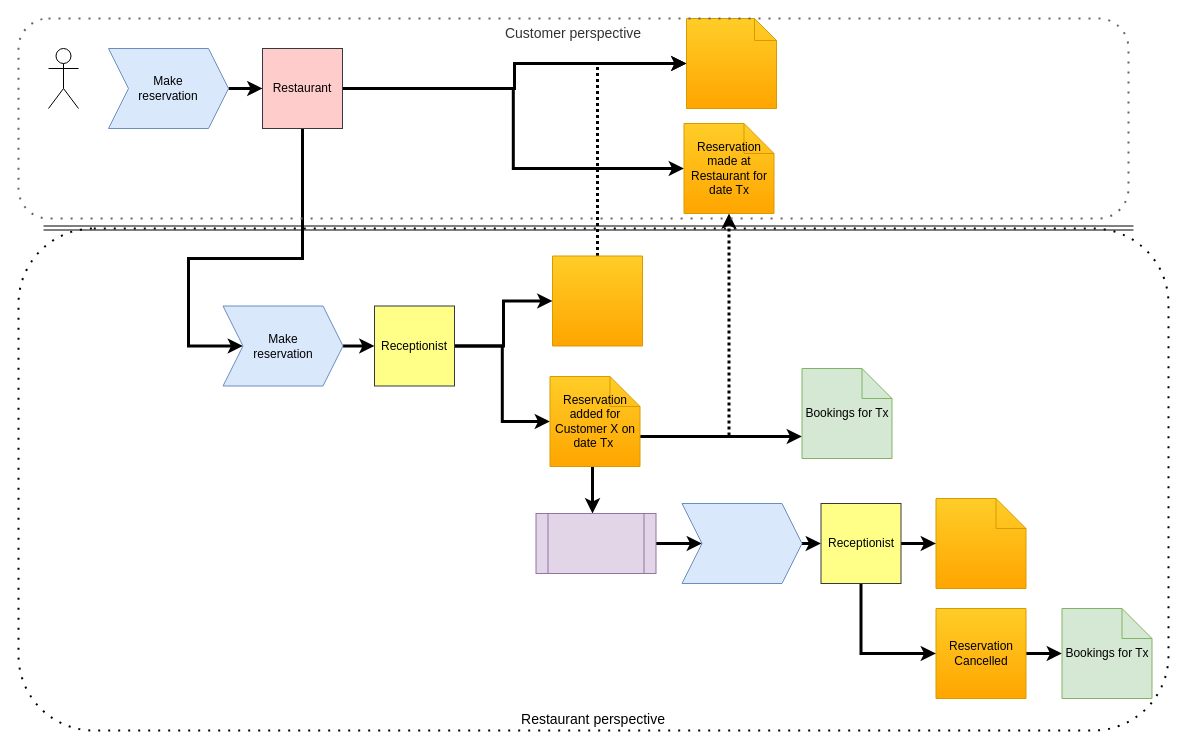
Some shapes in this 1186 by 748 pixel diagram are drawn without their labels. The centre of each missing label's shape, as x and y in pixels:
Confirm reservation: [741,543]
Customer: [63,78]
No reservation made: [731,63]
No reservation possible: [597,300]
Receptionist Policy: [595,543]
Reservation confirmed for Customer X on date Tx: [980,543]
